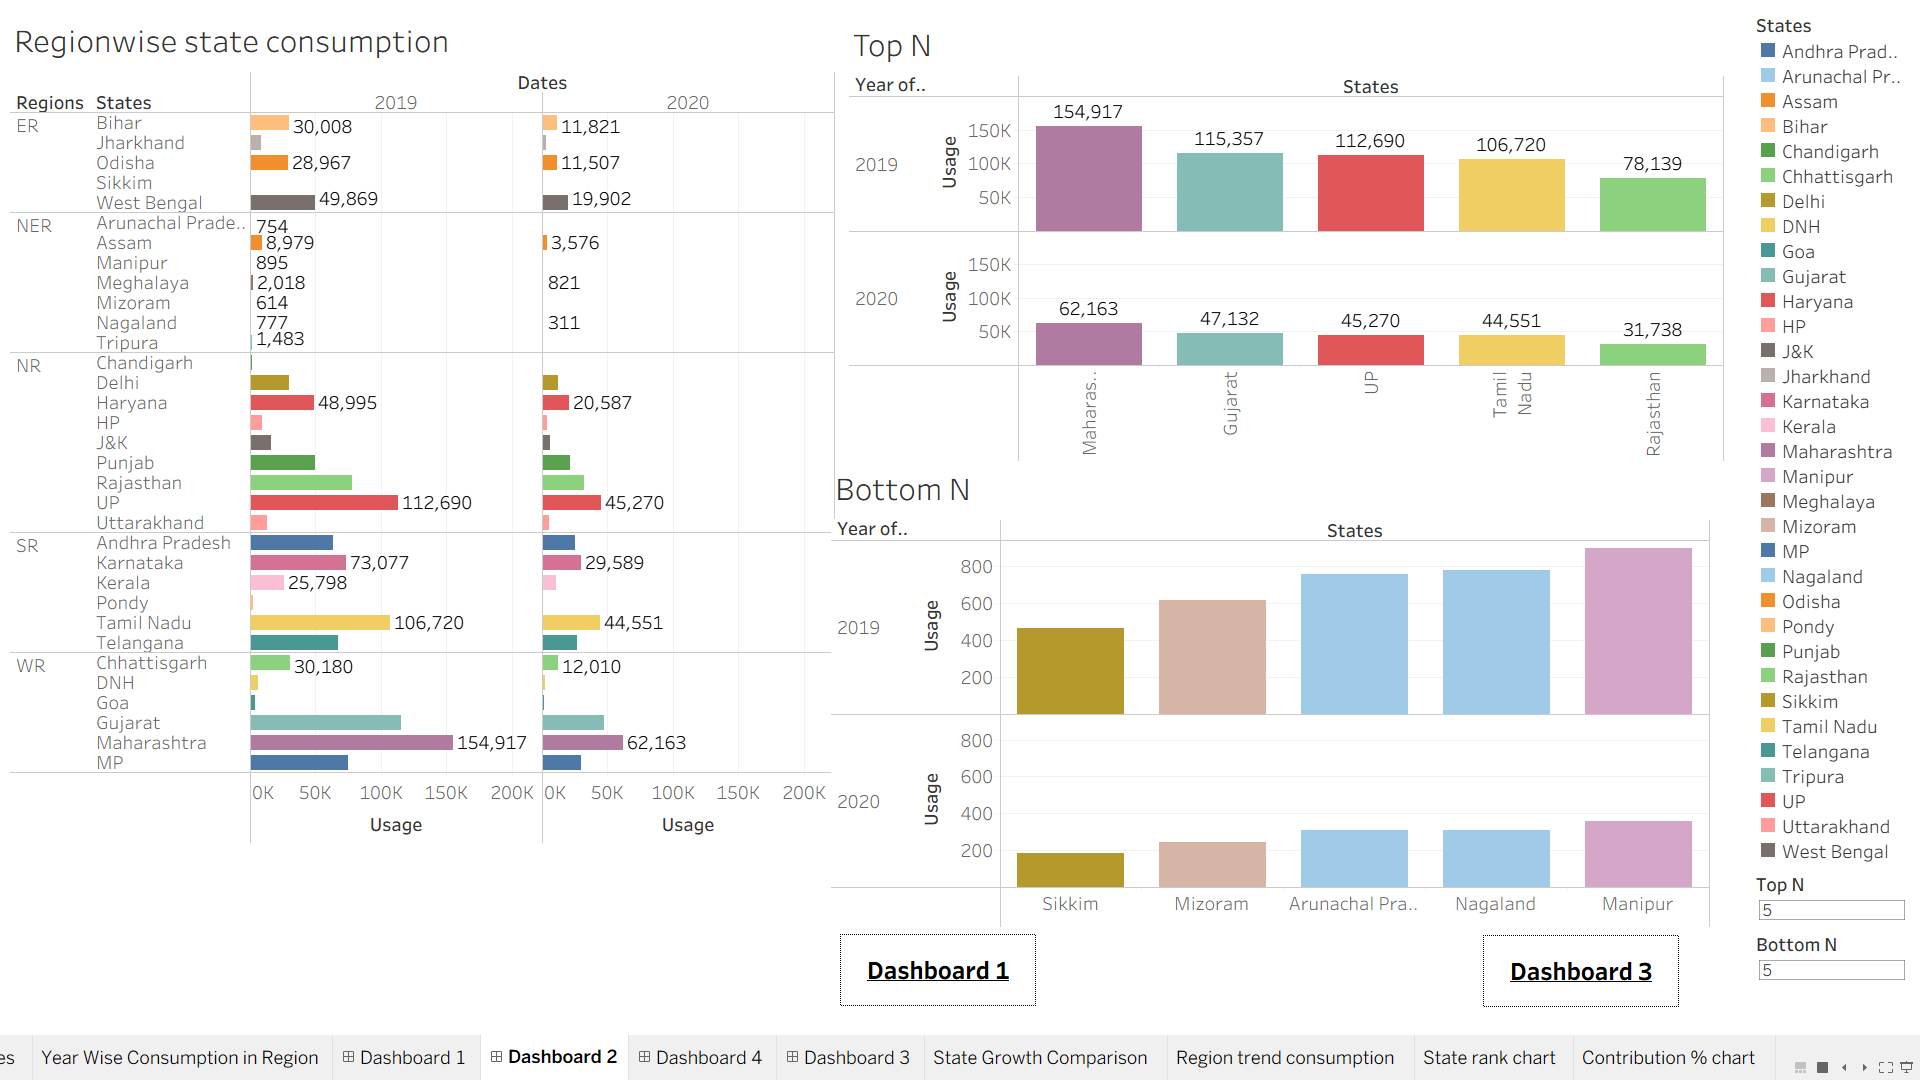

What the dashboard file says about the page in this screenshot:
{"tool":"tableau","page":{"name":"Dashboard 2","canvas":[1000,1000],"units":"permille","ordinal":1},"visuals":[{"type":"legend","title":"Regionwise state consumption","param":"[federated.0kxg41e0jhsp7912dl5lz15mm04g].[none:States:nk]","box":[912.5,7.7,83.3,830]},{"type":"worksheet","title":"Regionwise state consumption","mark":"Automatic","rows":["Regions","States"],"cols":["Dates","Usage"],"box":[5,14.8,430.2,958.5]},{"type":"worksheet","title":"Top N","mark":"Automatic","rows":["Dates","Usage"],"cols":["States"],"box":[442,18.8,455.7,428.9]},{"type":"worksheet","title":"Bottom N","mark":"Automatic","rows":["Dates","Usage"],"cols":["States"],"box":[432.7,447.7,458.2,449.1]},{"type":"parameter","param":"[Parameters].[Parameter 1]","box":[912.5,837.7,83.3,58]},{"type":"parameter","param":"[Parameters].[Parameter 2]","box":[912.5,895.6,83.3,58]},{"type":"dashboard-object","box":[437.7,902.1,102.2,69.7]},{"type":"dashboard-object","box":[772.4,903.5,102.2,69.7]}]}

Visuals, with their boxes on the dashboard's canvas, which has no fixed pixel size, in thousandths of its width and height (x1, y1, x2, y2). These are canvas units, not pixel positions in the 1920x1080 screenshot, which may show the page scaled, cropped or inside an application window:
"Regionwise state consumption" legend: [912,8,996,838]
"Regionwise state consumption" worksheet: [5,15,435,973]
"Top N" worksheet: [442,19,898,448]
"Bottom N" worksheet: [433,448,891,897]
parameter: [912,838,996,896]
parameter: [912,896,996,954]
dashboard-object: [438,902,540,972]
dashboard-object: [772,904,875,973]
